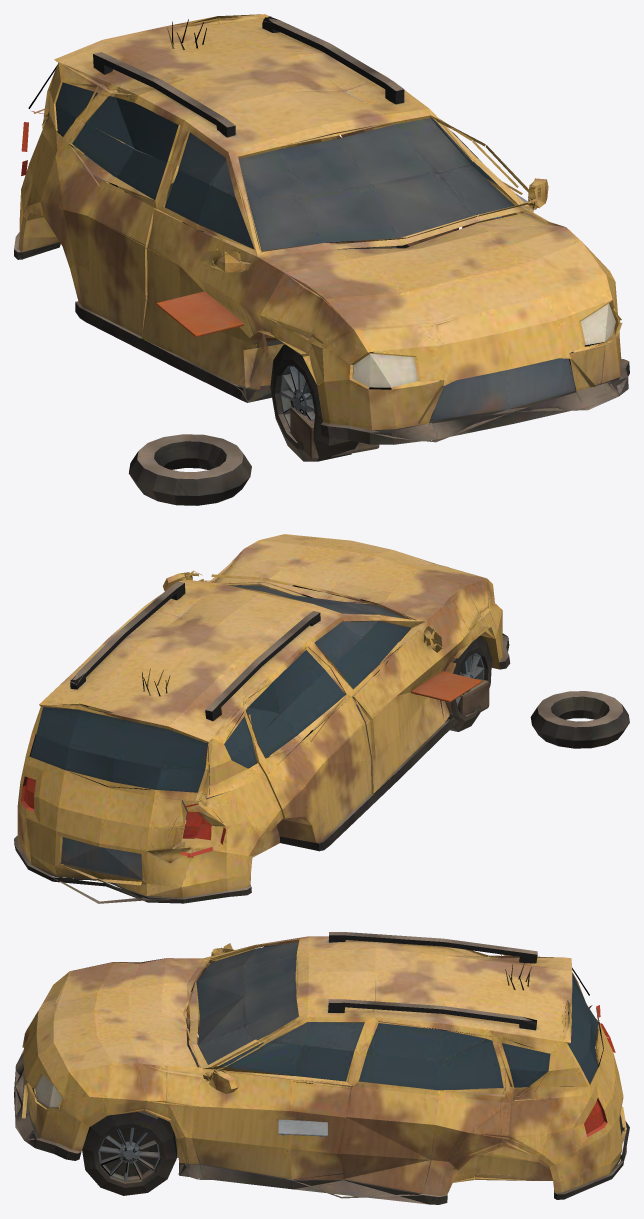
The model's file is scrap_car_c.glb.
The picture shows the model from 3 angles, top to bottom: view 1: azimuth 30°, elevation 25°; view 2: azimuth 150°, elevation 25°; view 3: azimuth 270°, elevation 25°; orthographic projection. The views are drawn at different scales.
Visible parts, largest first — view 1: ScrapCar_Mesh; view 2: ScrapCar_Mesh; view 3: ScrapCar_Mesh.
Boxes of the visible parts, x1,y1,x2,y2 form: ScrapCar_Mesh: (14,14,629,505); ScrapCar_Mesh: (14,534,629,903); ScrapCar_Mesh: (14,932,629,1204).
Size of the model in its own units: 3.13 by 1.42 by 4.21.
1 material, 1 textured.
